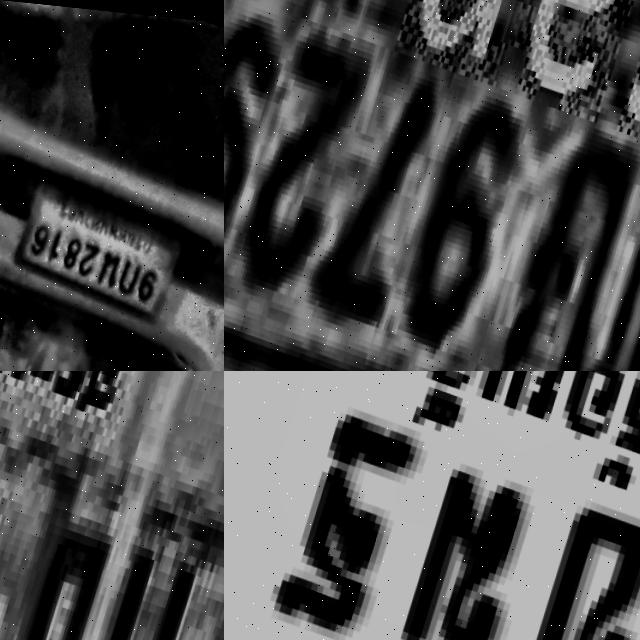license-plate: (224, 0, 640, 371), (224, 371, 640, 640), (0, 371, 224, 640), (8, 171, 191, 327)
